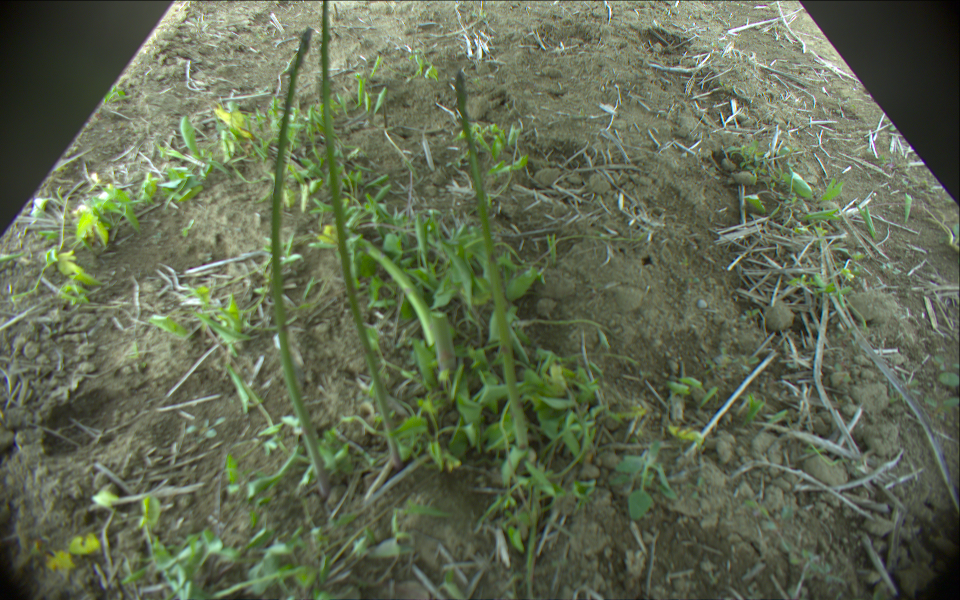aspa: (319, 1, 406, 466), (451, 72, 532, 450), (269, 29, 334, 495), (355, 235, 450, 358), (428, 311, 457, 374)
